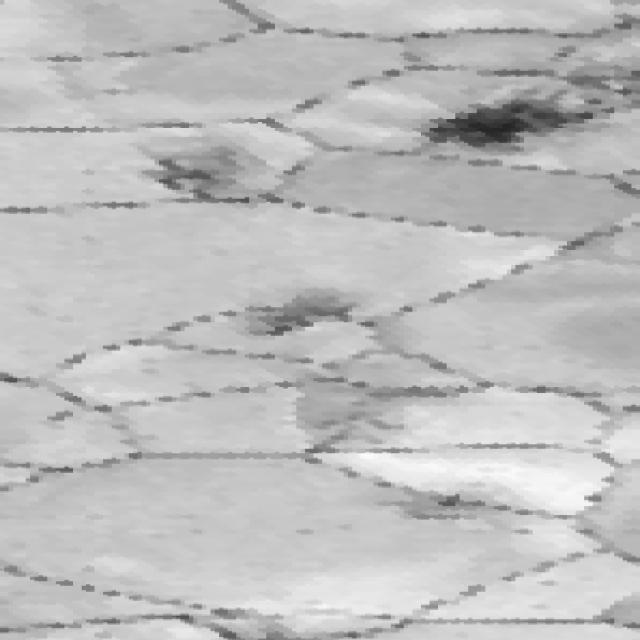good_void: (405, 63, 640, 160), (118, 145, 258, 203), (240, 286, 376, 342), (361, 479, 504, 526), (43, 409, 77, 423), (508, 527, 534, 538), (78, 168, 95, 177)
